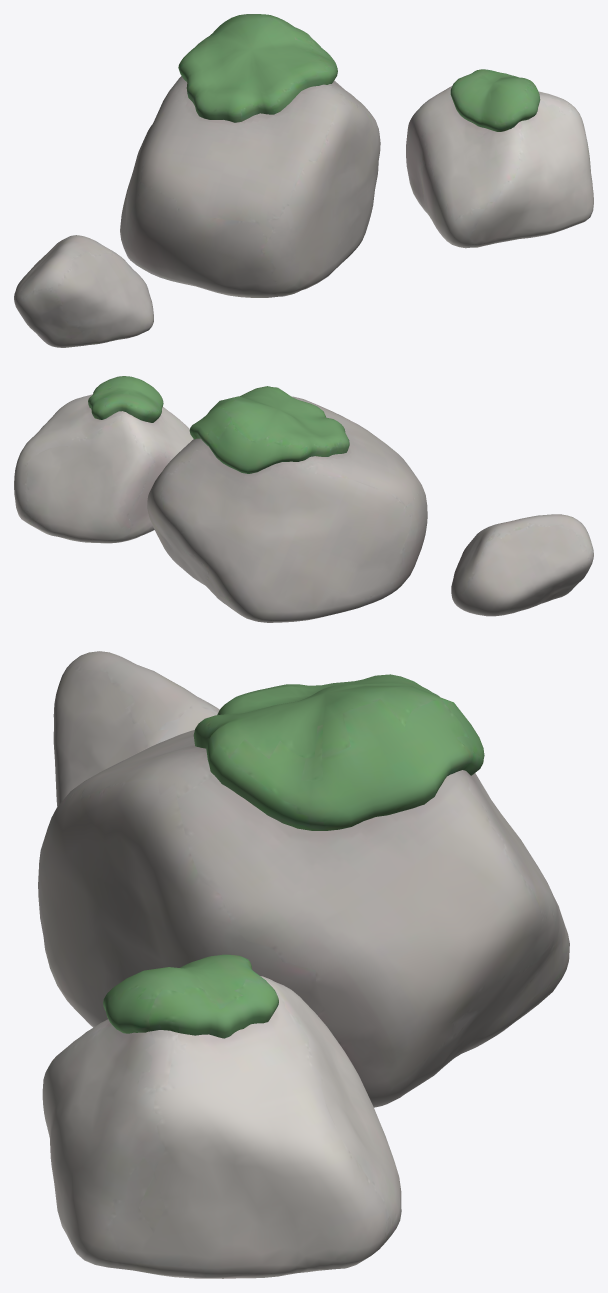
Rendered from boulder-rock-set.glb.
The picture shows the model from 3 angles, top to bottom: view 1: azimuth 30°, elevation 25°; view 2: azimuth 150°, elevation 25°; view 3: azimuth 270°, elevation 25°; orthographic projection. The views are drawn at different scales.
Parts seen in each view (by area): view 1: boulder-rock-set_body; view 2: boulder-rock-set_body; view 3: boulder-rock-set_body.
Part boxes in pixels (x1=…): boulder-rock-set_body: x1=14, y1=14, x2=593, y2=347; boulder-rock-set_body: x1=14, y1=376, x2=593, y2=622; boulder-rock-set_body: x1=38, y1=651, x2=569, y2=1278.
Bounding box in the file's own units: 3.42 × 1.14 × 1.5.
Materials: 1 (1 with a texture image).
